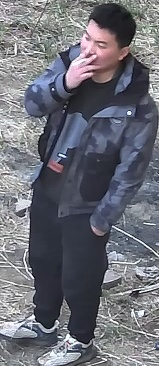smoking: (47, 0, 141, 121)
